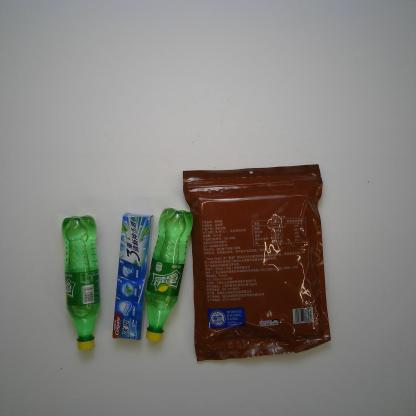Dried Food: (180, 162, 333, 366)
Drink: (142, 206, 195, 345), (59, 214, 102, 355)
Personal Hygiene: (110, 211, 155, 341)
